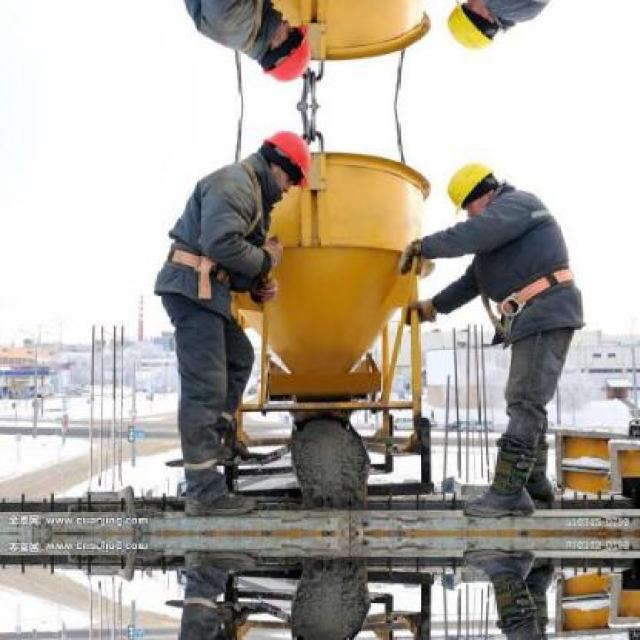helmet: (440, 153, 508, 219), (254, 126, 315, 197), (254, 15, 315, 86), (440, 0, 509, 60)
